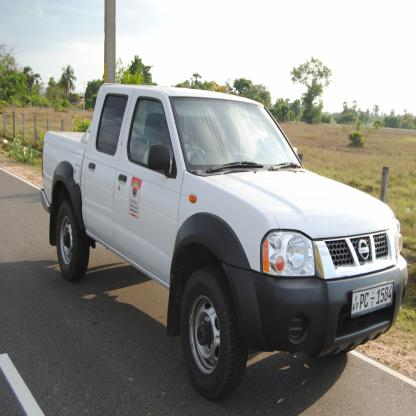Truck: (39, 83, 408, 400)
